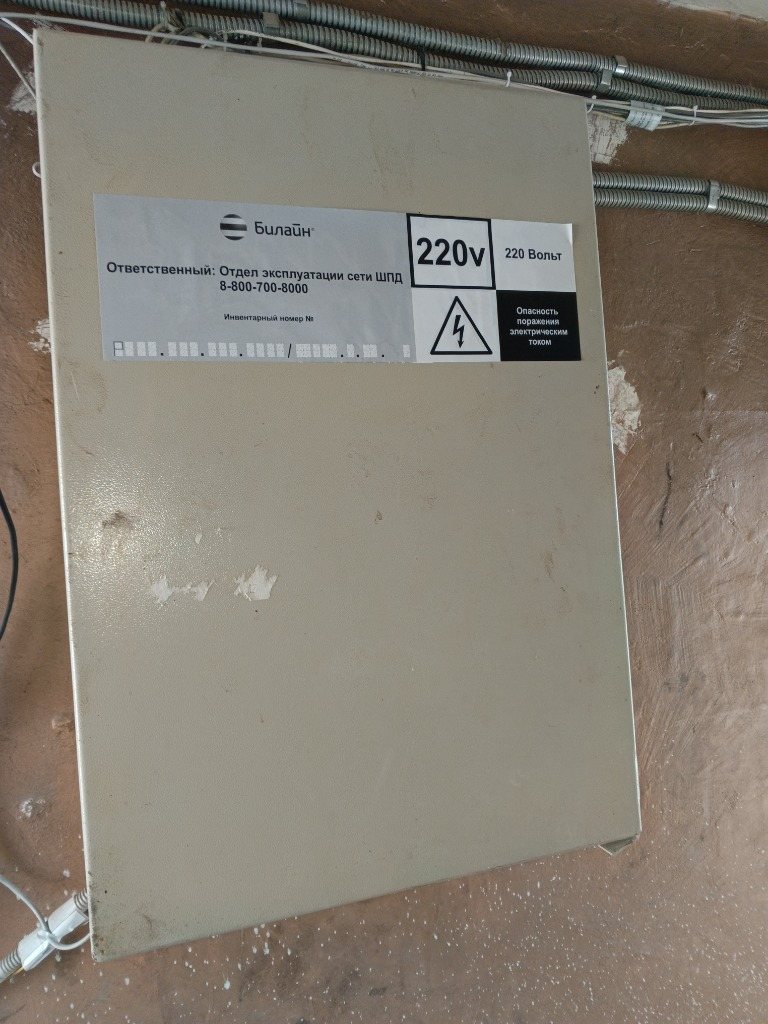sv-5: (26, 19, 652, 973)
